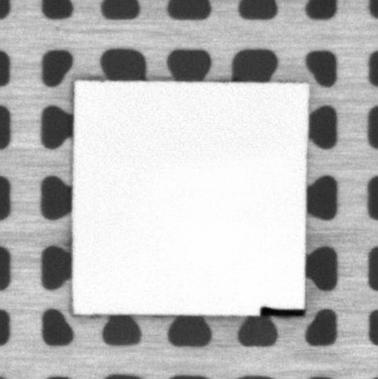DIE_BROKEN: (256, 304, 307, 318)
